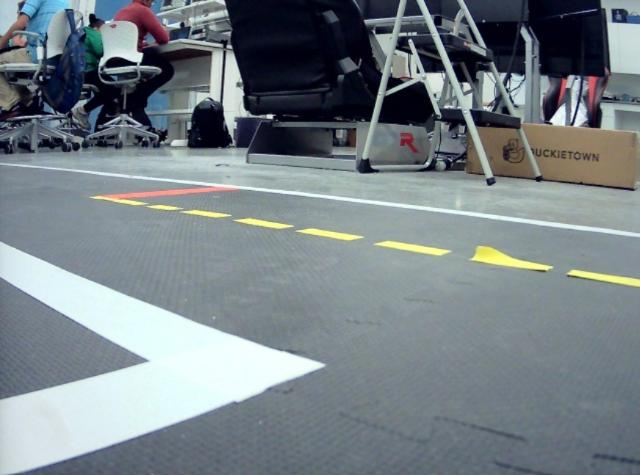redline: (96, 186, 239, 199)
whiteline: (1, 241, 325, 475), (1, 161, 640, 238)
yellowline: (92, 195, 640, 286)
